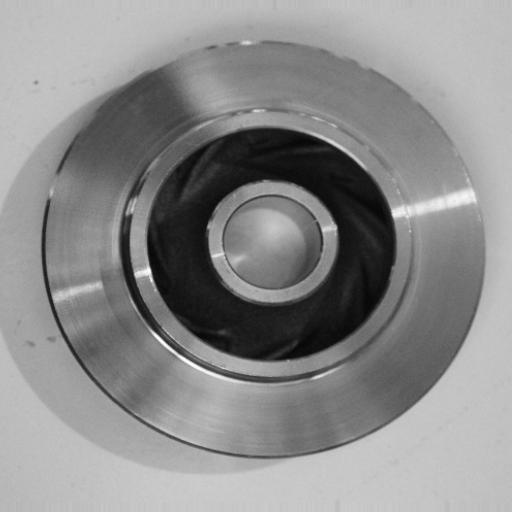scratch: (117, 148, 165, 242), (384, 166, 424, 252), (200, 24, 285, 61), (297, 101, 356, 131), (228, 94, 283, 124)
unpolished_casting: (40, 38, 488, 463)
